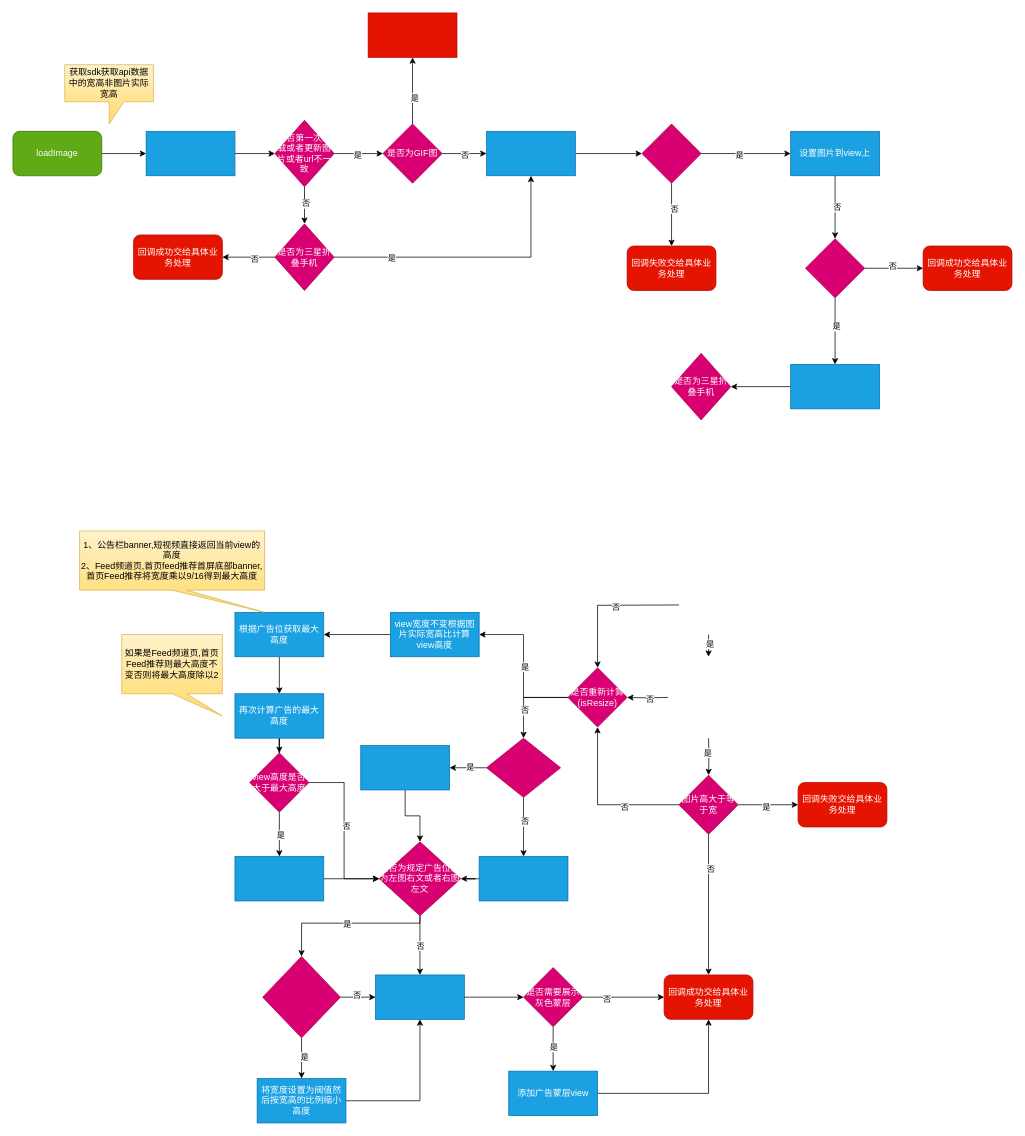
Some shapes in this 1025 by 1136 pixel diagram are drawn without their labels. The shapes that lost their labels are listed below. From the top down, each one's box as (x1, y1, x2, y2) in pixels, then its label:
(367, 12, 457, 57): 目前业务方不支持投放GIF
(145, 131, 235, 176): 根据样式生成素材处理工具
(486, 131, 575, 176): Glide加载图片
(641, 123, 701, 183): 是否加载成功
(805, 238, 865, 298): 是否需要重新计算尺寸(needResize)
(790, 364, 879, 409): 获取图片的真实宽高
(360, 745, 450, 790): 高度不变根据图片宽高比获取view宽度
(486, 737, 561, 797): 是否重新计算高度(isReSizeHeight)
(234, 856, 324, 901): 将view高度赋值为最大高度
(478, 856, 568, 901): 宽度不变根据图片宽高比获取view高度
(262, 956, 340, 1038): view宽度大于后台设置的宽度阀值(屏幕乘以百分比)
(375, 974, 464, 1019): 设置广告位view的宽高
